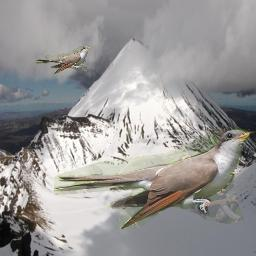Cuckoo: (54, 129, 250, 229), (35, 46, 90, 74)
